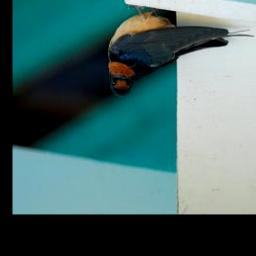Swallow: (103, 7, 254, 102)
